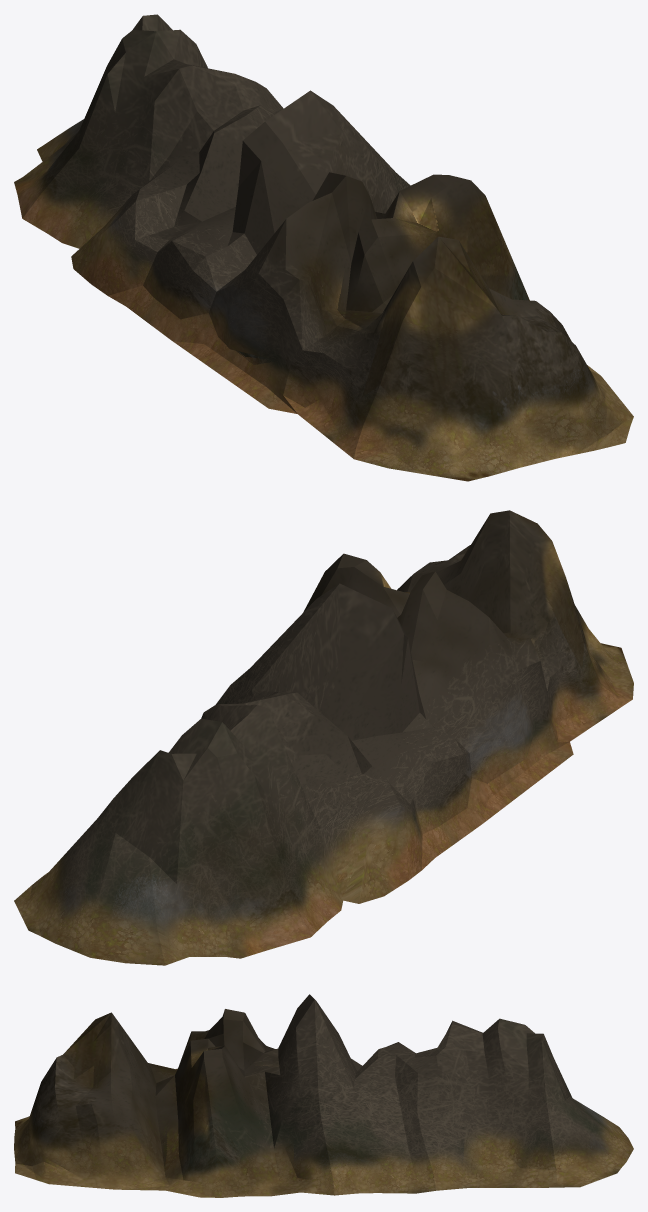
Rendered from cliffs.glb.
3 renders of one model, top to bottom at view 1: azimuth 30°, elevation 25°; view 2: azimuth 150°, elevation 25°; view 3: azimuth 270°, elevation 25°, orthographic. The views are drawn at different scales.
Parts seen in each view (by area): view 1: Plane; view 2: Plane; view 3: Plane.
Part boxes in pixels (x1,y1,x2,y2): Plane: [14, 14, 633, 481]; Plane: [14, 510, 633, 965]; Plane: [14, 994, 633, 1197].
Bounding box in the file's own units: 30.47 × 20.49 × 78.96.
Materials: 1 (1 with a texture image).
